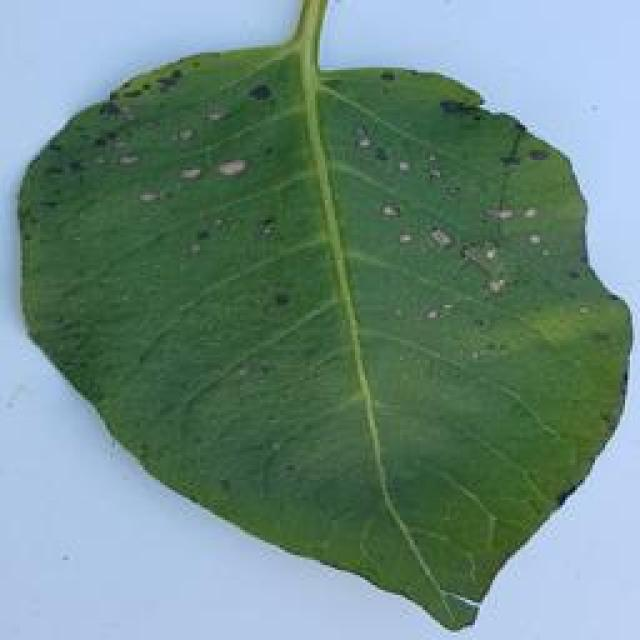Potato_Early_Blight: (3, 9, 633, 632)
